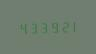four: (17, 21, 26, 34)
nine: (48, 20, 57, 33)
one: (68, 19, 77, 32)
three: (27, 20, 36, 34), (38, 20, 47, 34)
two: (58, 19, 67, 33)
